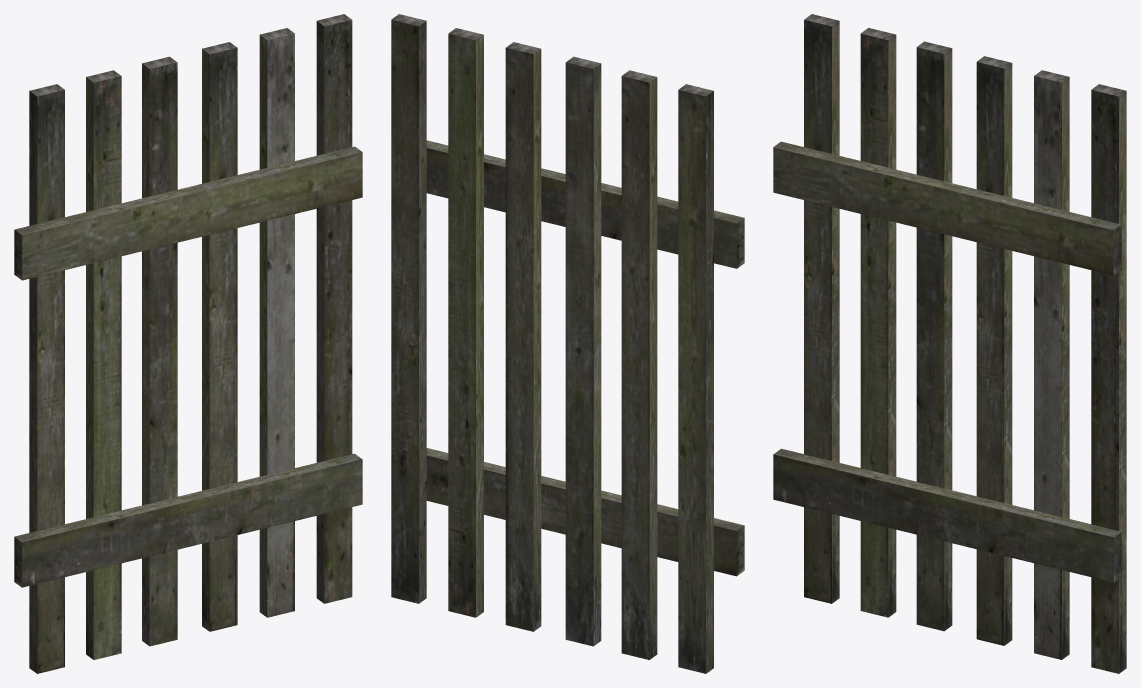
File: fence1.obj
3 views of the same model, side by side, from view 1: azimuth 30°, elevation 25°; view 2: azimuth 150°, elevation 25°; view 3: azimuth 330°, elevation 25° (orthographic).
Parts seen in each view (by area): view 1: 0.001; view 2: 0.001; view 3: 0.001.
Boxes of the visible parts, x1,y1,x2,y2 form: 0.001: (14,14,362,673); 0.001: (391,14,744,673); 0.001: (773,14,1126,673).
Size of the model in its own units: 1 by 1.62 by 0.0806.
